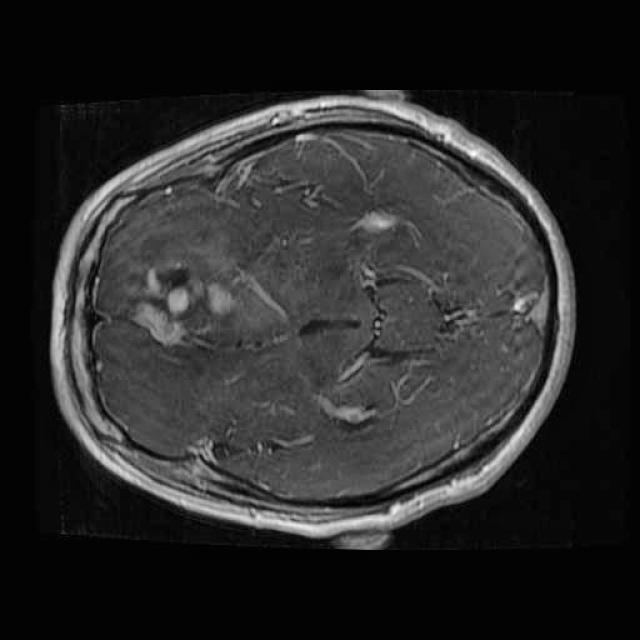Non-Tumor: (118, 231, 248, 368)
